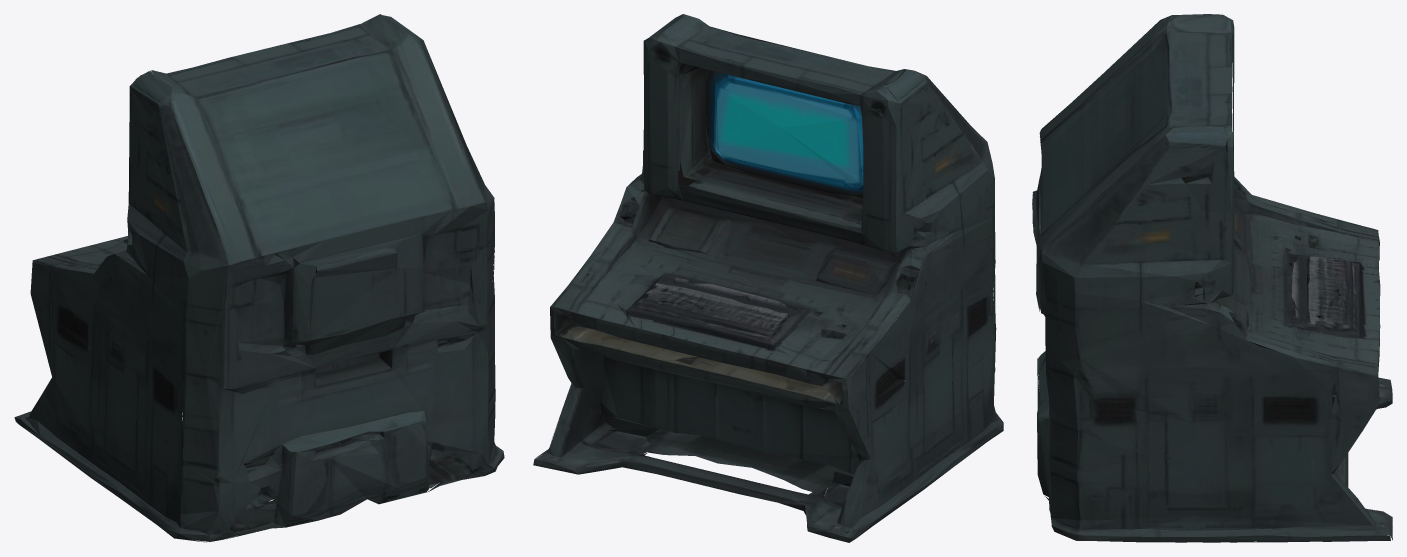
Rendered from console.glb.
The picture shows the model from 3 angles, left to right: view 1: azimuth 30°, elevation 25°; view 2: azimuth 150°, elevation 25°; view 3: azimuth 270°, elevation 25°; orthographic projection. The views are drawn at different scales.
Visible parts, largest first — view 1: world; view 2: world; view 3: world.
Boxes of the visible parts, bbox=[...] form: world: bbox=[14, 14, 504, 542]; world: bbox=[533, 14, 1003, 542]; world: bbox=[1032, 14, 1392, 542].
Bounding box in the file's own units: 0.863 × 1 × 0.8306.
Materials: 1 (1 with a texture image).
